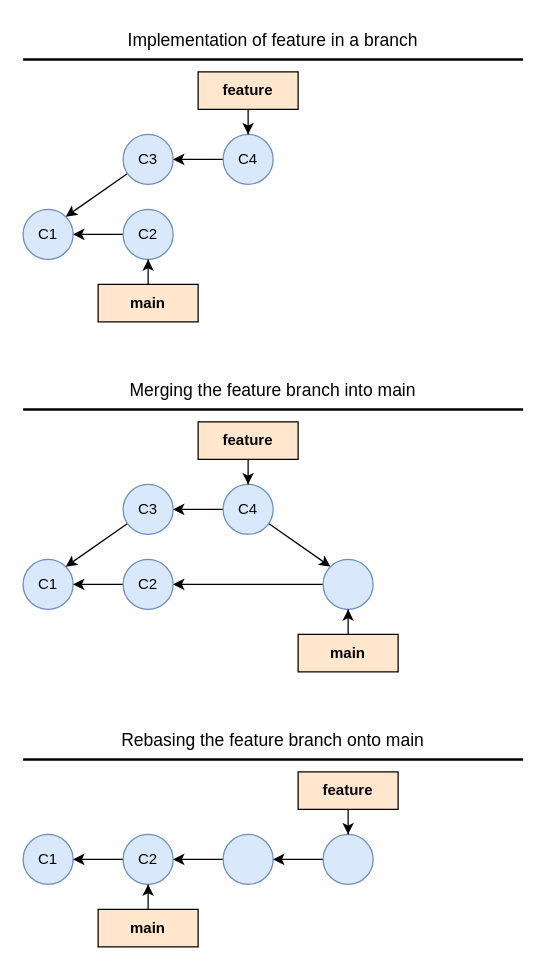
Some shapes in this 546 by 969 pixel diagram are drawn without their labels. The centre of each missing label's shape, as x and y in pixels:
C3': (247,858)
C4': (347,858)
C5: (347,583)
